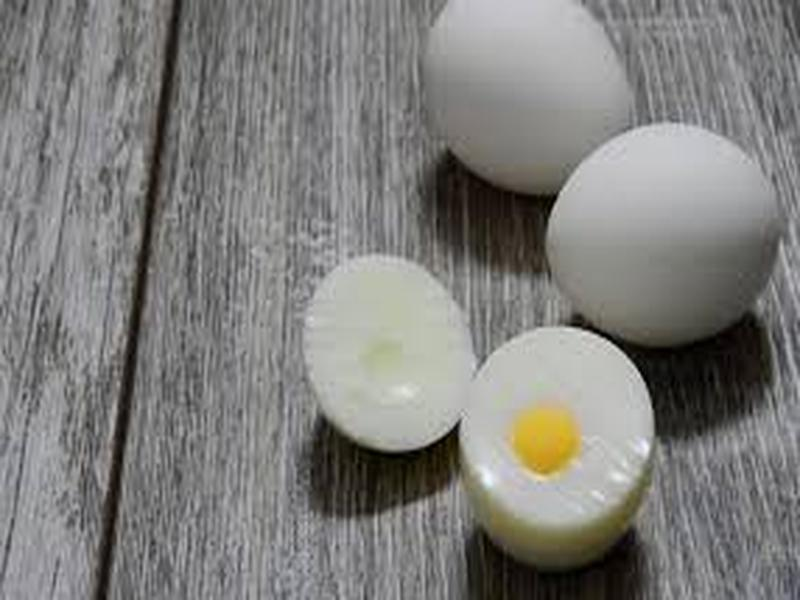egg: (268, 1, 800, 577)
